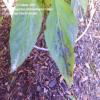Bell_pepper leaf: (45, 1, 75, 87), (10, 0, 42, 71)
